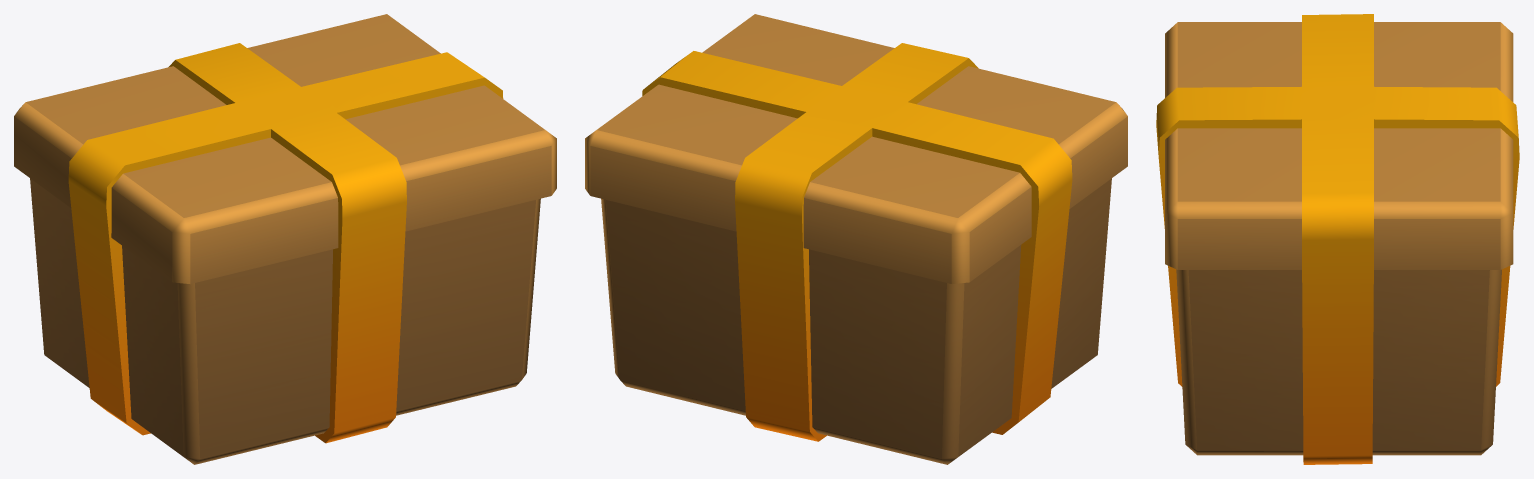
File: giftbox_010.fbx
The picture shows the model from 3 angles, left to right: view 1: azimuth 30°, elevation 25°; view 2: azimuth 150°, elevation 25°; view 3: azimuth 270°, elevation 25°; orthographic projection.
Visible parts, largest first — view 1: giftbox_010; view 2: giftbox_010; view 3: giftbox_010.
Boxes of the visible parts, x1=… form: giftbox_010: x1=14, y1=14, x2=556, y2=464; giftbox_010: x1=585, y1=14, x2=1127, y2=464; giftbox_010: x1=1156, y1=14, x2=1519, y2=464.
Bounding box in the file's own units: 285 × 220 × 188.
